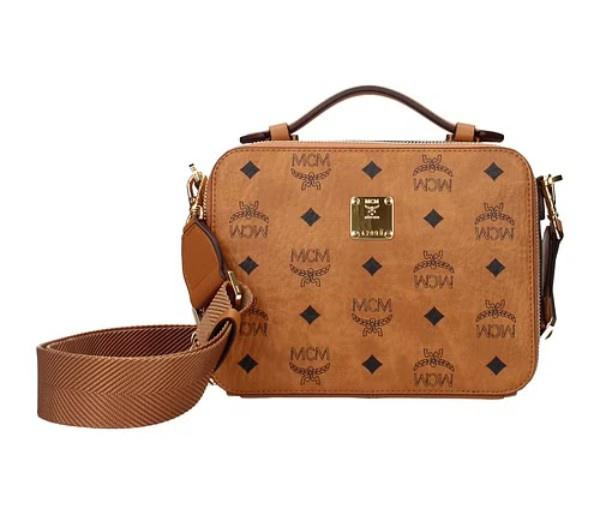MCM: (196, 144, 537, 394)
